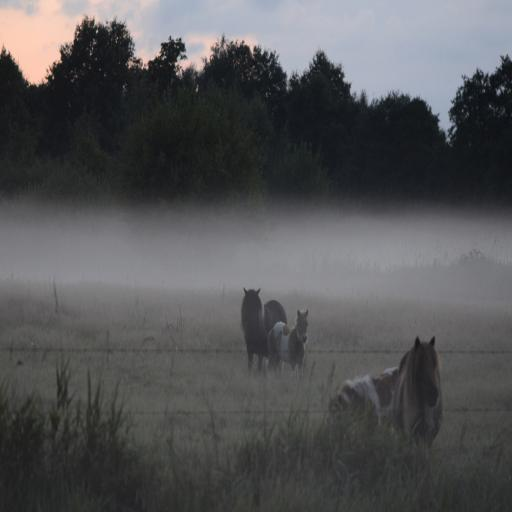horse: (333, 332, 441, 452), (240, 284, 288, 376), (264, 307, 310, 383)
